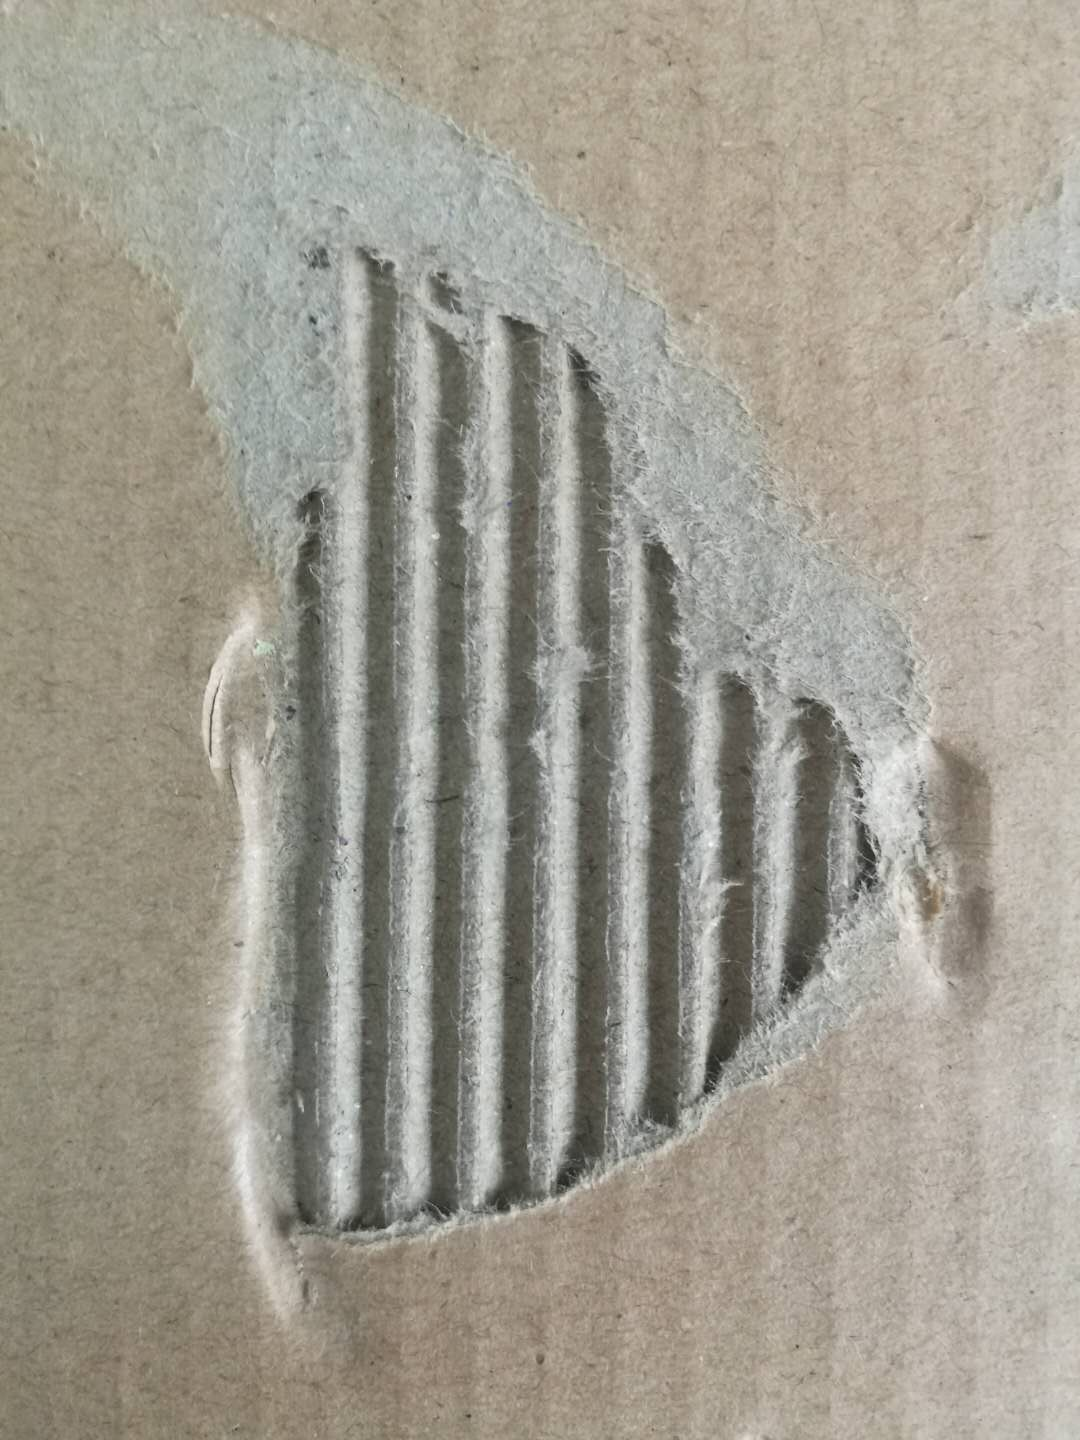defect: (5, 5, 1031, 1356), (940, 145, 1080, 347)
